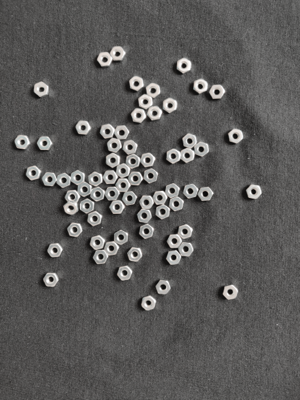nut: (34, 82, 50, 98), (131, 108, 147, 124), (110, 47, 126, 62), (97, 52, 113, 67), (129, 76, 144, 92), (138, 94, 153, 110), (75, 120, 91, 135), (100, 124, 116, 139), (116, 163, 131, 179), (26, 166, 42, 181), (183, 184, 199, 199), (87, 211, 102, 227), (67, 223, 83, 238), (47, 243, 63, 258), (167, 234, 183, 249), (178, 242, 194, 257), (166, 250, 182, 265), (223, 285, 239, 300), (14, 135, 31, 149), (43, 273, 60, 287), (229, 129, 244, 144), (195, 142, 210, 157), (166, 149, 181, 164), (123, 140, 138, 155), (126, 154, 141, 169), (106, 153, 121, 168), (42, 172, 57, 187), (90, 187, 105, 202), (80, 199, 95, 214), (156, 205, 171, 220), (137, 209, 152, 224), (139, 224, 154, 239), (178, 224, 193, 239), (128, 247, 143, 262), (118, 266, 133, 281), (156, 280, 171, 295), (177, 58, 191, 74), (147, 83, 161, 99), (71, 170, 85, 186), (198, 187, 214, 201), (122, 192, 138, 206), (90, 236, 106, 250), (104, 242, 120, 256), (93, 250, 109, 264), (194, 79, 208, 94), (210, 85, 225, 99), (163, 98, 177, 113), (148, 106, 162, 121), (115, 126, 130, 140), (183, 134, 197, 149), (181, 148, 195, 163), (108, 138, 122, 153), (141, 153, 155, 168), (57, 173, 71, 188), (89, 172, 103, 187), (103, 170, 118, 184), (143, 169, 158, 183), (105, 187, 120, 201), (78, 182, 92, 197), (64, 201, 79, 215), (247, 185, 262, 199), (166, 184, 180, 199), (153, 191, 168, 205), (170, 197, 184, 212), (139, 196, 154, 210), (114, 230, 128, 245), (142, 296, 156, 311), (37, 137, 53, 150), (116, 179, 131, 192), (66, 190, 81, 203), (110, 201, 125, 214), (129, 172, 143, 185)
